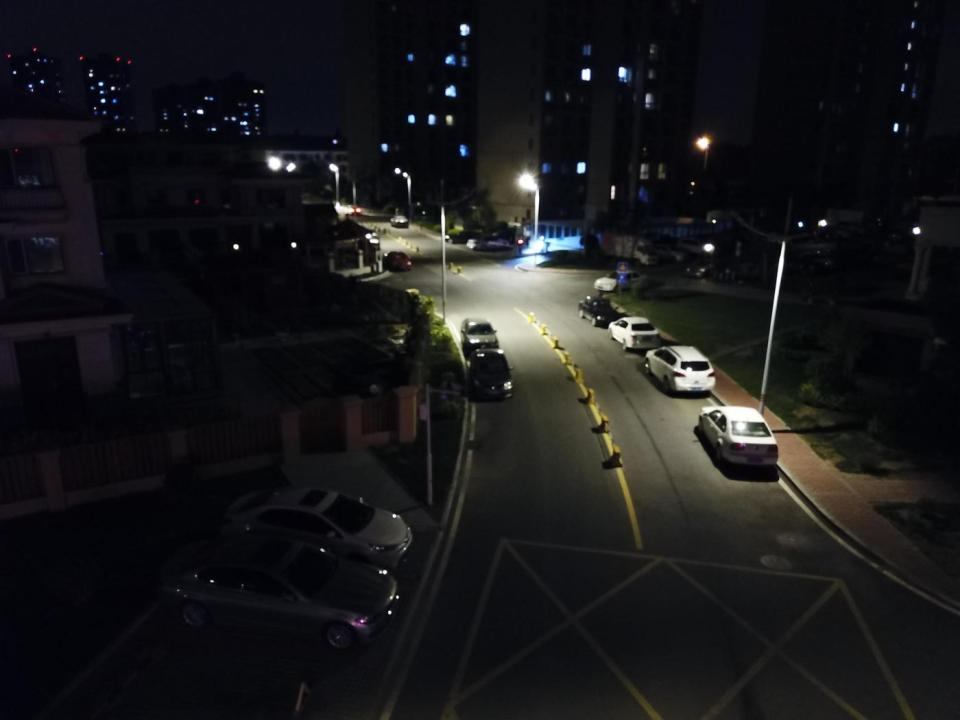car: (159, 535, 401, 649), (226, 488, 414, 569), (697, 405, 779, 467), (644, 344, 716, 394), (470, 348, 514, 400), (608, 315, 663, 351), (459, 317, 500, 353), (593, 268, 650, 293), (578, 295, 622, 327), (653, 241, 690, 262), (466, 234, 510, 251), (688, 258, 721, 278), (383, 250, 412, 271), (677, 238, 711, 254), (390, 214, 408, 227)
truck: (598, 233, 658, 268)
